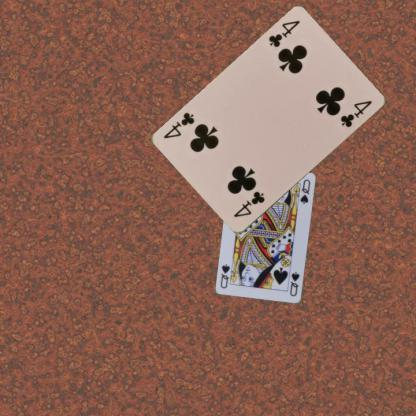4c: (231, 188, 266, 219), (266, 18, 301, 49)
Qs: (288, 270, 302, 298)
